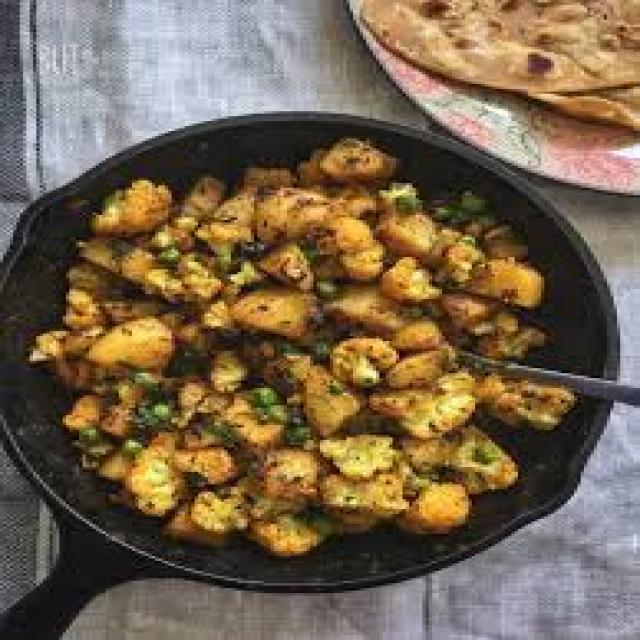Aloo Gobi: (82, 159, 518, 556)
